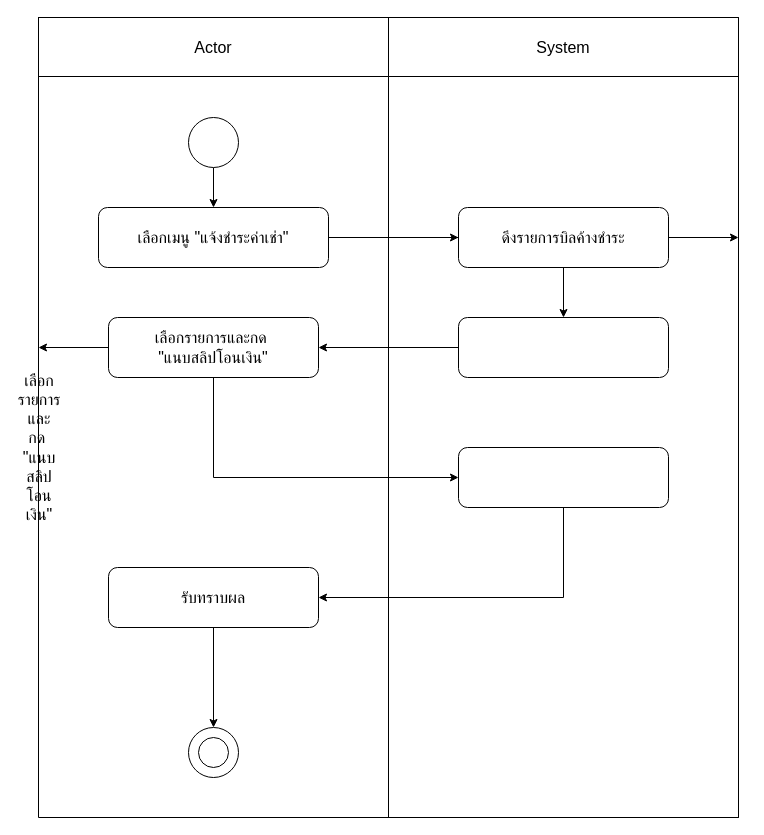
Image size: 764x835. Some labels were removed from this diagram. The centre of each missing label's shape, as x and y in pixels:
แสดงข้อความ "บันทึกสำเร็จ รอตรวจสอบ": the point at 563,477
แสดงรายการบิล: the point at 563,347
